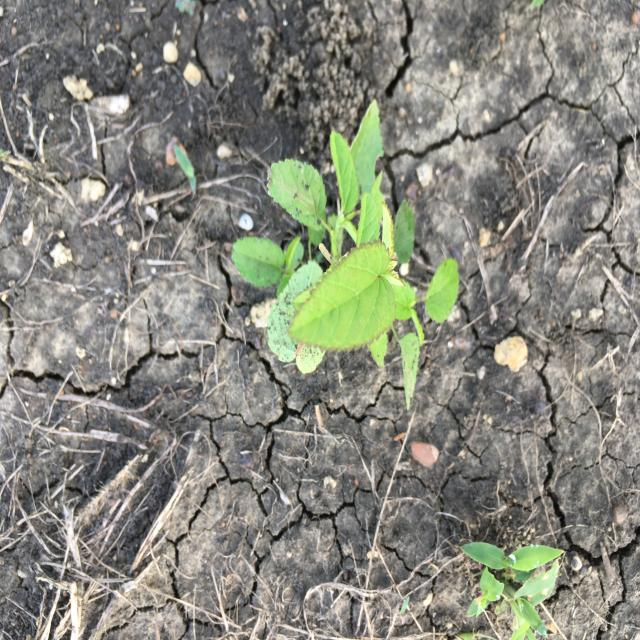PricklySida: (230, 97, 462, 414)
